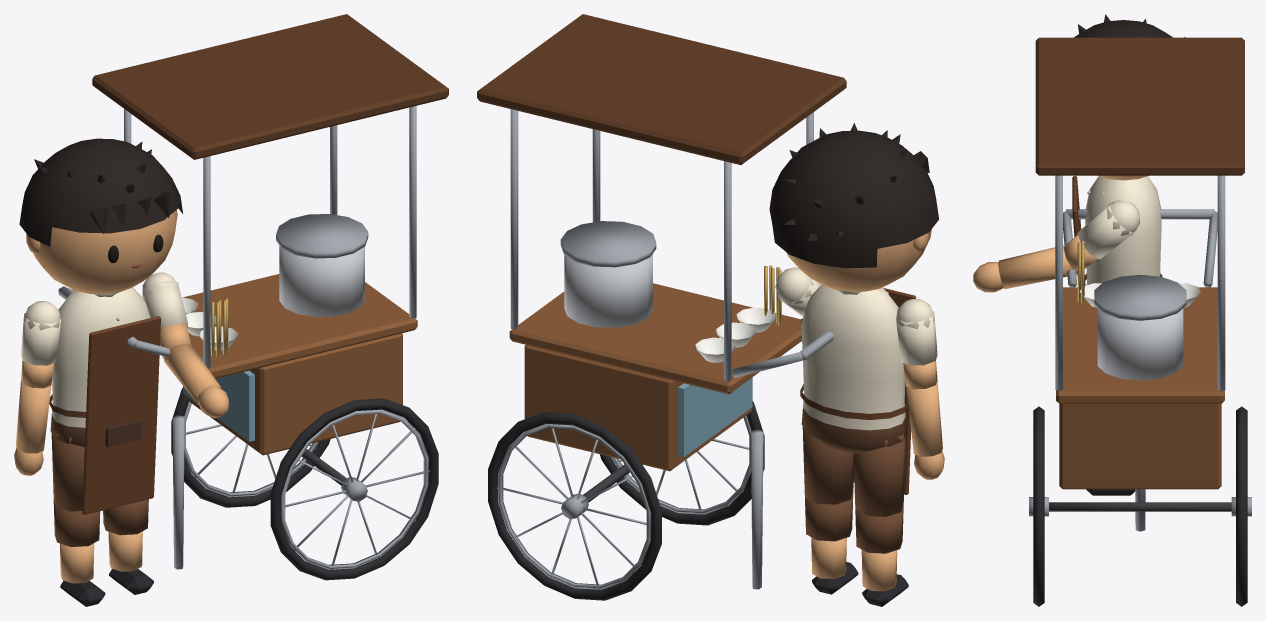
The model's file is central_noodle_seller.glb.
3 views of the same model, side by side, from view 1: azimuth 30°, elevation 25°; view 2: azimuth 150°, elevation 25°; view 3: azimuth 270°, elevation 25° (orthographic). The views are drawn at different scales.
Parts seen in each view (by area): view 1: prop_noodle_cart, body, head, shin_R, shin_L, arm_R, forearm_R, forearm_L, arm_L, leg_R; view 2: prop_noodle_cart, head, body, shin_L, shin_R, leg_R, arm_R, leg_L, forearm_R, arm_L; view 3: prop_noodle_cart, body, arm_L, forearm_L, head.
Part boxes in pixels (x1=…): prop_noodle_cart: x1=58, y1=14, x2=448, y2=580; body: x1=49, y1=287, x2=160, y2=514; head: x1=19, y1=138, x2=182, y2=294; shin_R: x1=53, y1=500, x2=105, y2=606; shin_L: x1=103, y1=499, x2=153, y2=594; arm_R: x1=21, y1=301, x2=61, y2=388; forearm_R: x1=14, y1=380, x2=51, y2=475; forearm_L: x1=164, y1=343, x2=229, y2=417; arm_L: x1=142, y1=272, x2=191, y2=362; leg_R: x1=51, y1=430, x2=84, y2=511; prop_noodle_cart: x1=477, y1=14, x2=846, y2=600; head: x1=769, y1=123, x2=938, y2=291; body: x1=800, y1=285, x2=916, y2=494; shin_L: x1=805, y1=492, x2=858, y2=594; shin_R: x1=855, y1=505, x2=908, y2=606; leg_R: x1=853, y1=432, x2=905, y2=516; arm_R: x1=896, y1=299, x2=937, y2=389; leg_L: x1=802, y1=419, x2=853, y2=504; forearm_R: x1=906, y1=381, x2=944, y2=479; arm_L: x1=775, y1=267, x2=820, y2=317; prop_noodle_cart: x1=1029, y1=37, x2=1251, y2=606; body: x1=1072, y1=175, x2=1162, y2=285; arm_L: x1=1063, y1=200, x2=1139, y2=274; forearm_L: x1=973, y1=244, x2=1072, y2=292; head: x1=1074, y1=14, x2=1185, y2=180.
Size of the model in its own units: 1.37 by 1.57 by 0.8251.
